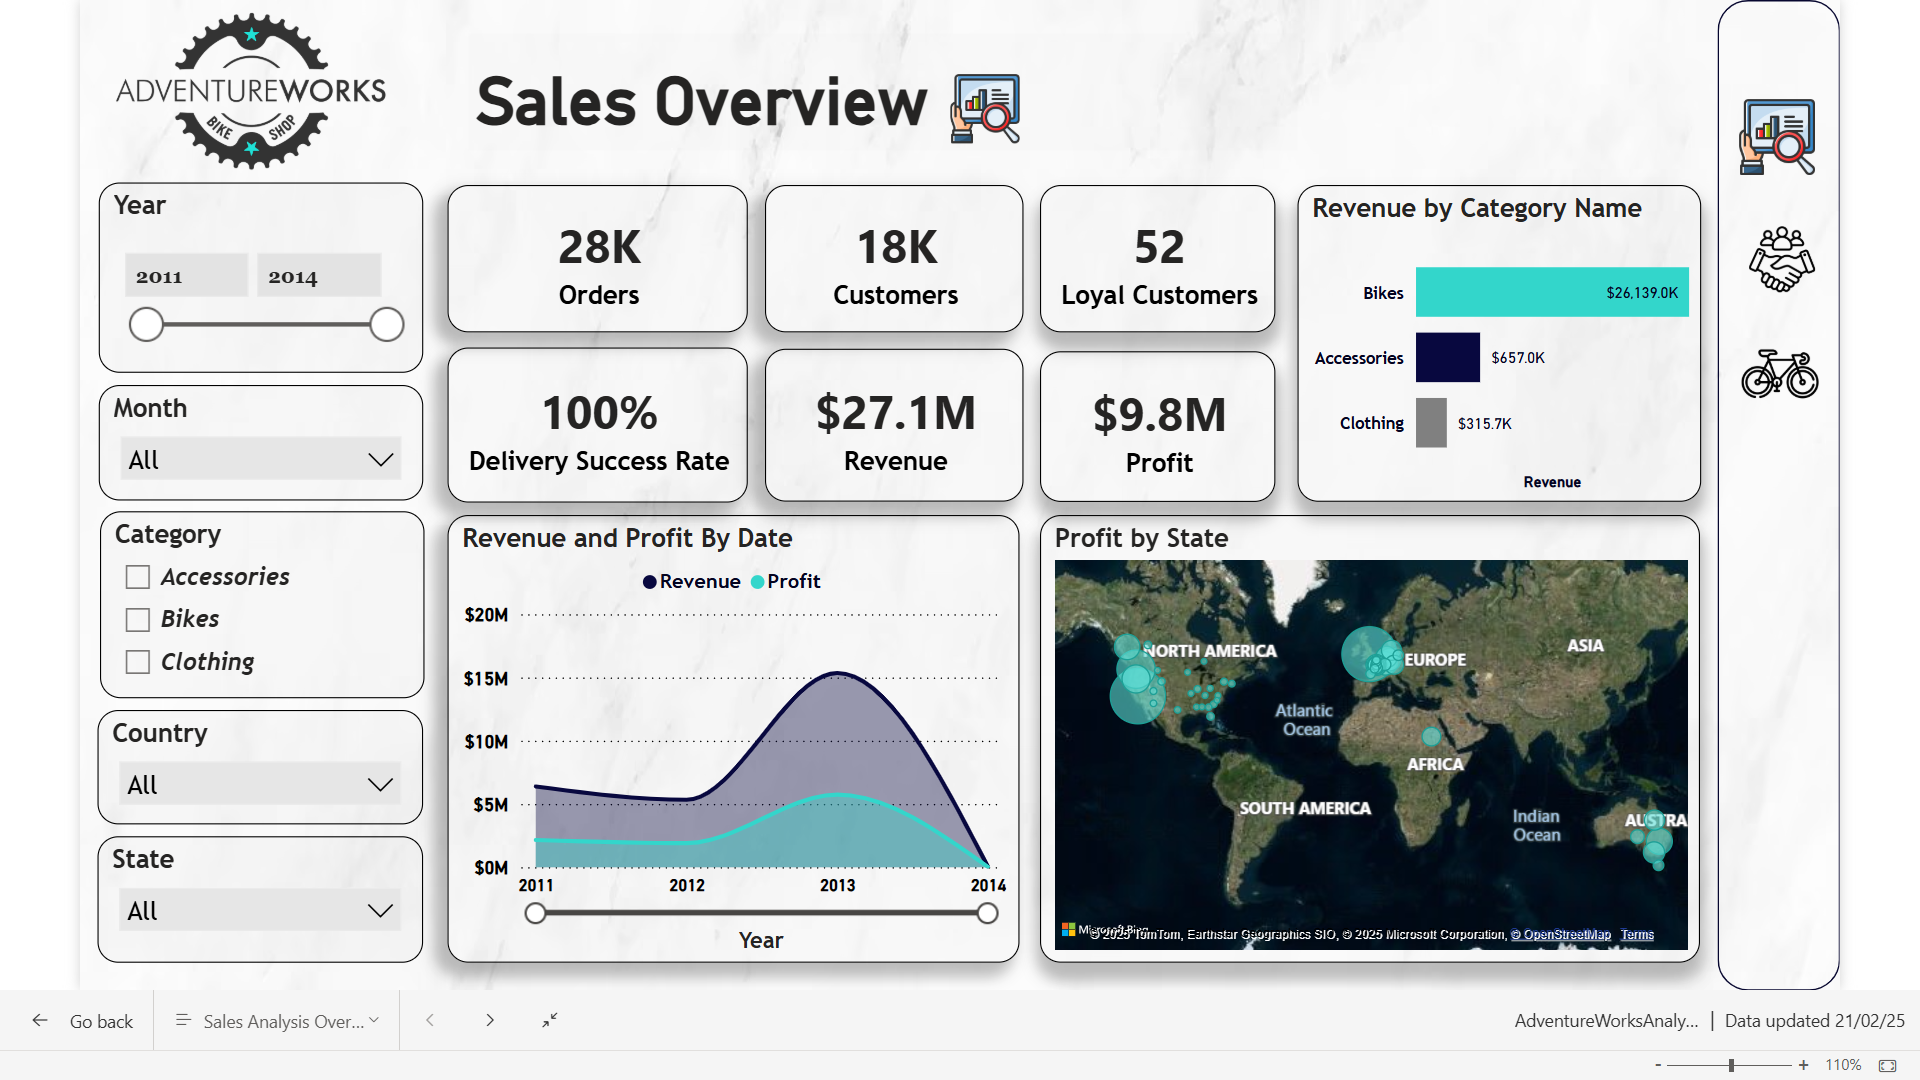

What the dashboard file says about the page in this screenshot:
{"tool":"powerbi","page":{"name":"Sales Analysis Overview","canvas":[1280,720],"ordinal":0},"visuals":[{"type":"image","box":[0,0,249.5,133.3],"z":0,"group":"g1"},{"type":"shape","box":[1191.1,0,89.2,720.4],"z":0},{"type":"clusteredBarChart","fields":{"Category":["DimProductCategory.EnglishProductCategoryName"],"Y":["_Measures.Revenue"]},"box":[885.1,134.5,293.7,230.5],"z":1000},{"type":"lineChart","title":"Revenue and Profit By Date ","fields":{"Y":["_Measures.Revenue","_Measures.Profit"],"Category":["DimDate.Date Hierarchy.Year","DimDate.Date Hierarchy.Quarter","DimDate.Date Hierarchy.MonthName","DimDate.Date Hierarchy.WeekDayName"]},"box":[267.6,374.6,415.8,325.2],"z":2000},{"type":"slicer","title":"Year","fields":{"Values":["DimDate.Date Hierarchy.Year"]},"box":[13.7,133.1,236,138.6],"z":3000,"group":"g1"},{"type":"map","title":"Profit by State","fields":{"Category":["DimGeography.StateProvinceName"],"Size":["Sum(FactInternetSales.Profit)"]},"box":[698.5,374.6,480.3,325.2],"z":3000},{"type":"card","title":"Achieving","fields":{"Values":["_Measures.NO.Late_Orders"]},"box":[267.6,252.6,218.2,112.5],"z":4000},{"type":"slicer","title":"Category","fields":{"Values":["DimProductCategory.Category Name"]},"box":[14.9,372.2,235.7,135.8],"z":4000,"group":"g1"},{"type":"textbox","box":[282.7,24.7,602.4,85.1],"z":5000},{"type":"slicer","title":"Country","fields":{"Values":["DimSalesTerritory.SalesTerritoryCountry"]},"box":[12.9,516.3,236.6,83.2],"z":5000,"group":"g1"},{"type":"group","id":"g1","title":"Group 2","box":[0,0,251.1,699.8],"z":6000},{"type":"slicer","title":"Month","fields":{"Values":["DimDate.Date Hierarchy.MonthName"]},"box":[13.7,280.1,236,83.7],"z":6000,"group":"g1"},{"type":"card","title":"Delivered","fields":{"Values":["_Measures.No.Orders"]},"box":[267.6,134.5,218.2,107],"z":7000},{"type":"slicer","title":"State","fields":{"Values":["DimGeography.StateProvinceName"]},"box":[12.9,607.9,236.6,91.8],"z":7000,"group":"g1"},{"type":"card","title":"To","fields":{"Values":["_Measures.No.Customer"]},"box":[498.1,134.5,188,107],"z":8000},{"type":"card","title":"Having","fields":{"Values":["_Measures.No.Loyal_Customers"]},"box":[698.5,134.5,171.5,107],"z":9000},{"type":"card","fields":{"Values":["_Measures.Revenue"]},"box":[498.1,254,188,111.1],"z":10000},{"type":"card","fields":{"Values":["_Measures.Profit"]},"box":[698.5,255.4,171.5,109.8],"z":11000},{"type":"image","box":[1202.1,67.2,65,65],"z":12000},{"type":"image","box":[1208.9,157.8,57.6,60.4],"z":13000},{"type":"image","box":[1203.4,238.8,65.9,65.9],"z":14000},{"type":"image","box":[628.5,49.4,60,60.4],"z":15000}]}

Visuals, with their boxes on the page's 1280x720 design canvas (x1, y1, x2, y2). These are canvas units, not pixel positions in the 1920x1080 screenshot, which may show the page scaled, cropped or inside an application window:
image: box=[0, 0, 250, 133]
shape: box=[1191, 0, 1280, 720]
clusteredBarChart - DimProductCategory.EnglishProductCategoryName x _Measures.Revenue: box=[885, 134, 1179, 365]
"Revenue and Profit By Date " lineChart: box=[268, 375, 683, 700]
"Year" slicer: box=[14, 133, 250, 272]
"Profit by State" map: box=[698, 375, 1179, 700]
"Achieving" card: box=[268, 253, 486, 365]
"Category" slicer: box=[15, 372, 251, 508]
textbox: box=[283, 25, 885, 110]
"Country" slicer: box=[13, 516, 250, 600]
"Group 2" group: box=[0, 0, 251, 700]
"Month" slicer: box=[14, 280, 250, 364]
"Delivered" card: box=[268, 134, 486, 242]
"State" slicer: box=[13, 608, 250, 700]
"To" card: box=[498, 134, 686, 242]
"Having" card: box=[698, 134, 870, 242]
card - _Measures.Revenue: box=[498, 254, 686, 365]
card - _Measures.Profit: box=[698, 255, 870, 365]
image: box=[1202, 67, 1267, 132]
image: box=[1209, 158, 1266, 218]
image: box=[1203, 239, 1269, 305]
image: box=[628, 49, 688, 110]
